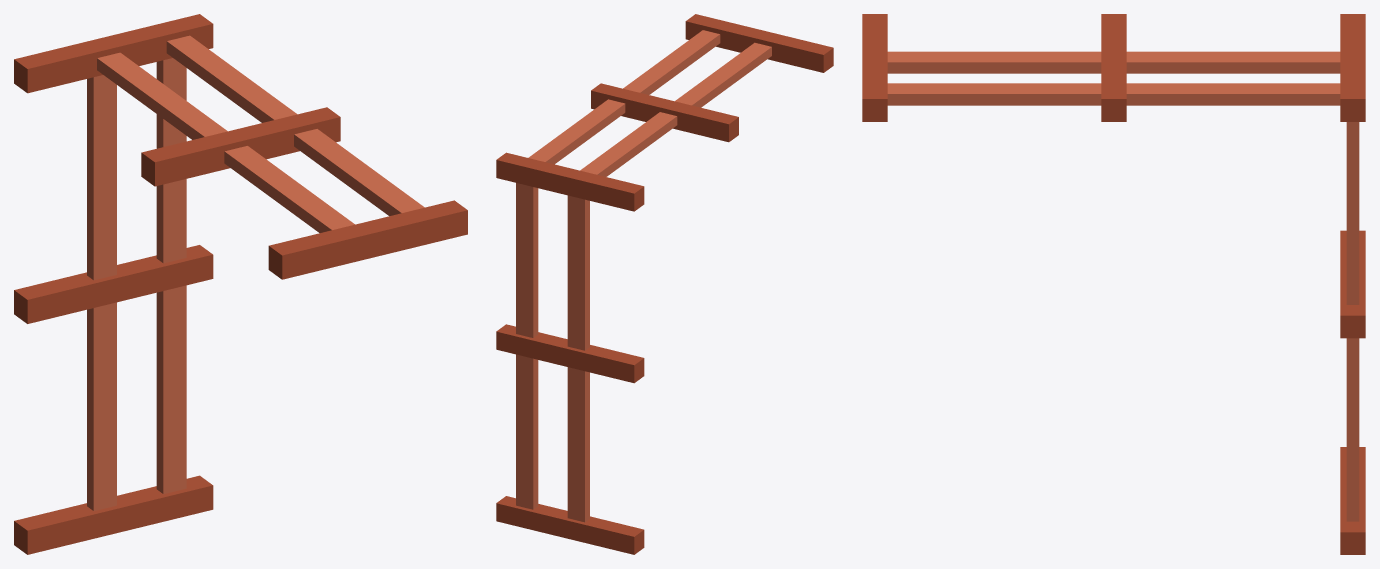
The model's file is Fence corner.obj.
The picture shows the model from 3 angles, left to right: view 1: azimuth 30°, elevation 25°; view 2: azimuth 150°, elevation 25°; view 3: azimuth 270°, elevation 25°; orthographic projection. The views are drawn at different scales.
Parts seen in each view (by area): view 1: fence_classicFarm; view 2: fence_classicFarm; view 3: fence_classicFarm.
Boxes of the visible parts, <box> form: fence_classicFarm: <box>14,14,467,554</box>; fence_classicFarm: <box>496,14,833,554</box>; fence_classicFarm: <box>862,14,1365,554</box>.
Size of the model in its own units: 0.4 by 1 by 1.
